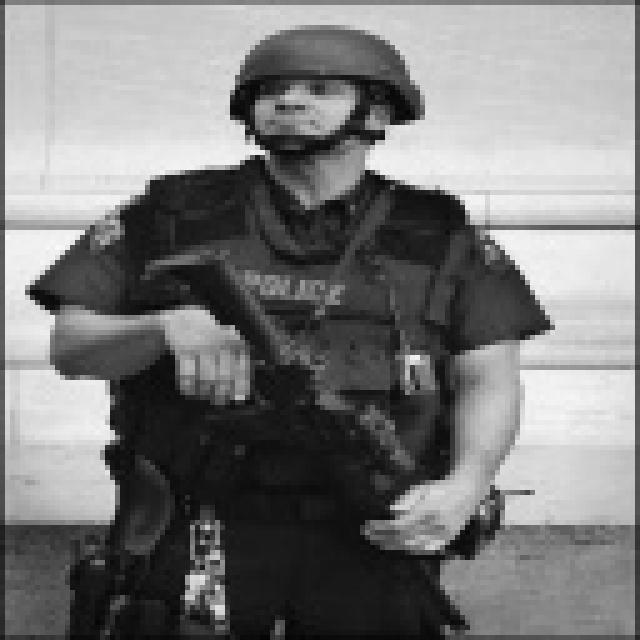Rifle: (122, 252, 536, 640)
